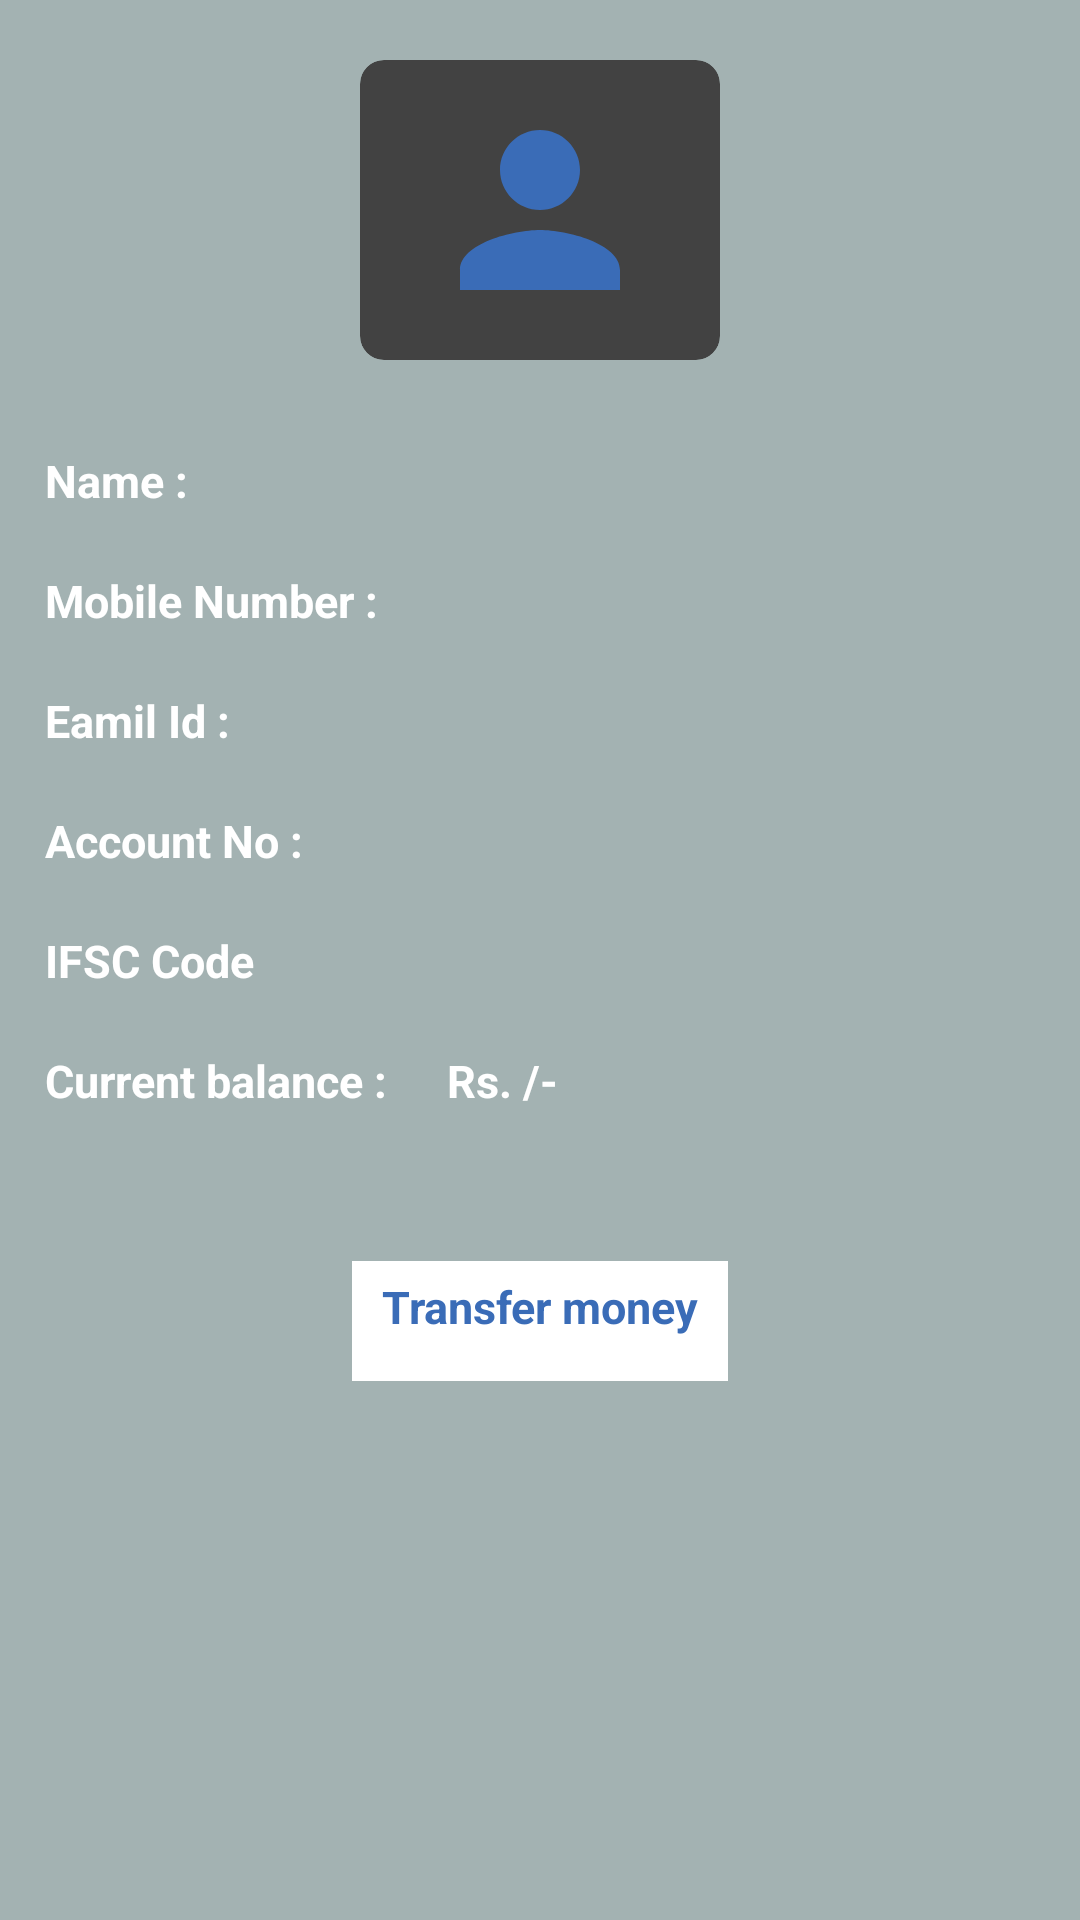

Locate icon controls on the screen. Image size 1080 × 1920, boxes as (x1,y1,x2,y2).
user: (460,130,620,290)
